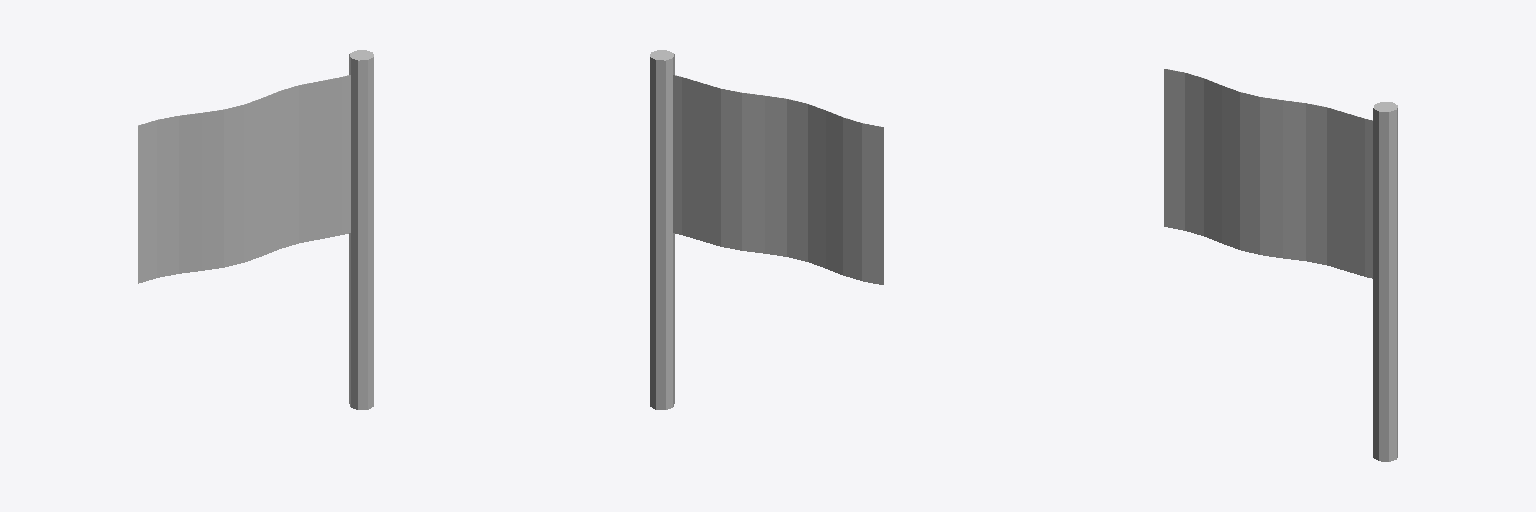
File: flag_basic.sgm.obj
3 renders of one model, left to right at view 1: azimuth 30°, elevation 25°; view 2: azimuth 150°, elevation 25°; view 3: azimuth 330°, elevation 25°, orthographic.
Size of the model in its own units: 0.42 by 0.6 by 0.04.